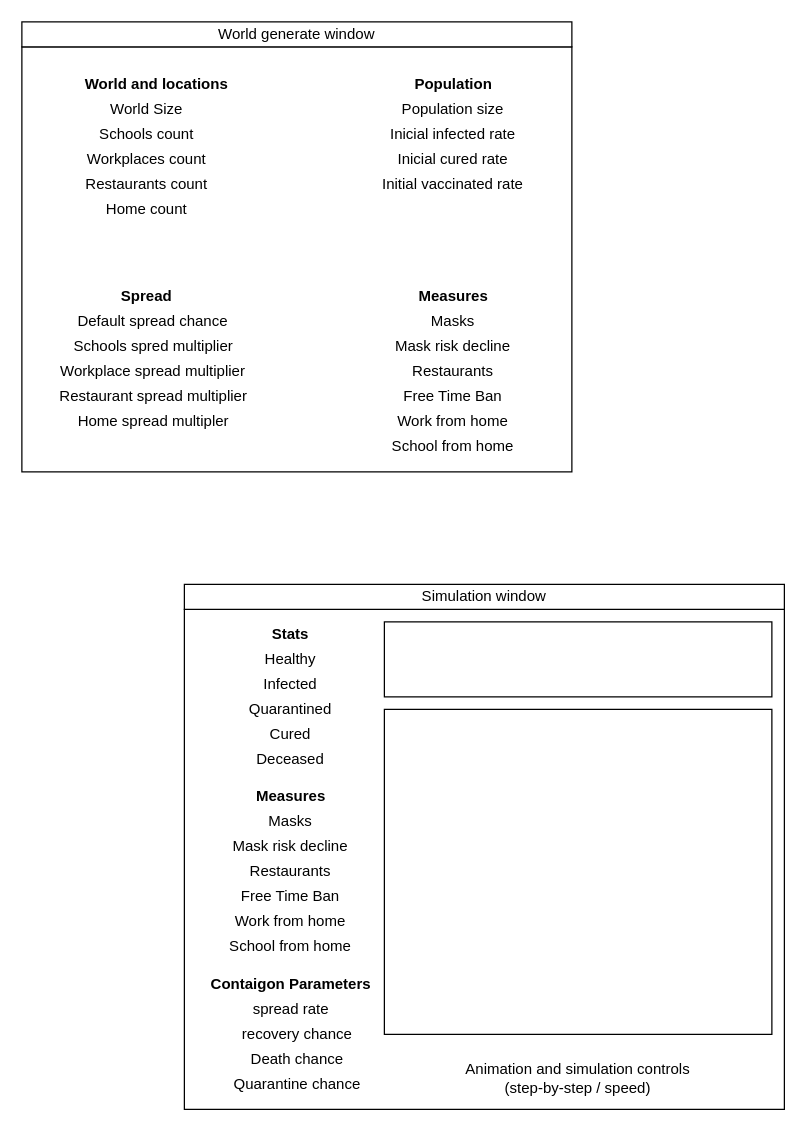
Image size: 806x1131. Some labels were removed from this diagram. Each missing label, with the centre of its shape:
Stats Graph: the point at 577,659
World graphical output: the point at 577,871
